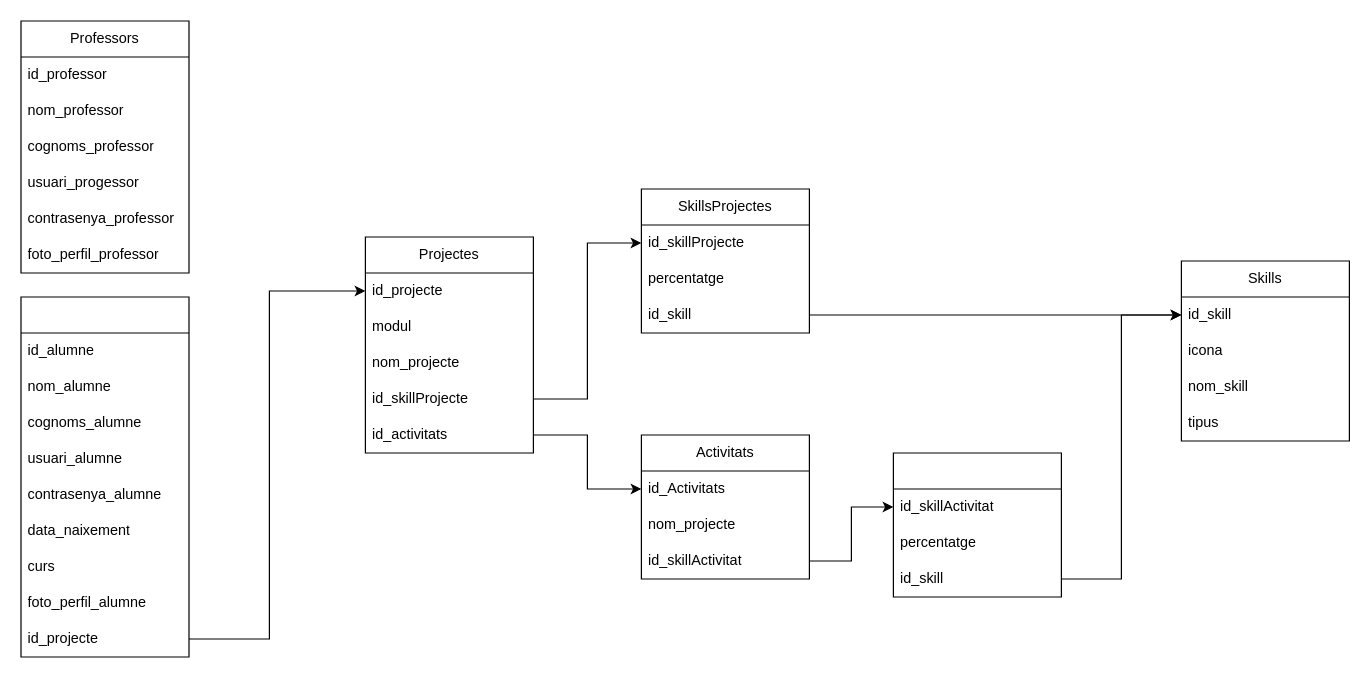
Some shapes in this 1370 by 678 pixel diagram are drawn without their labels. The shapes that lost their labels are listed below. From the top down, each one's box as (x1, y1, x2, y2) in pixels, then its label:
(20, 296, 189, 657): Alumnes
(892, 452, 1061, 597): SkillsActivitats
